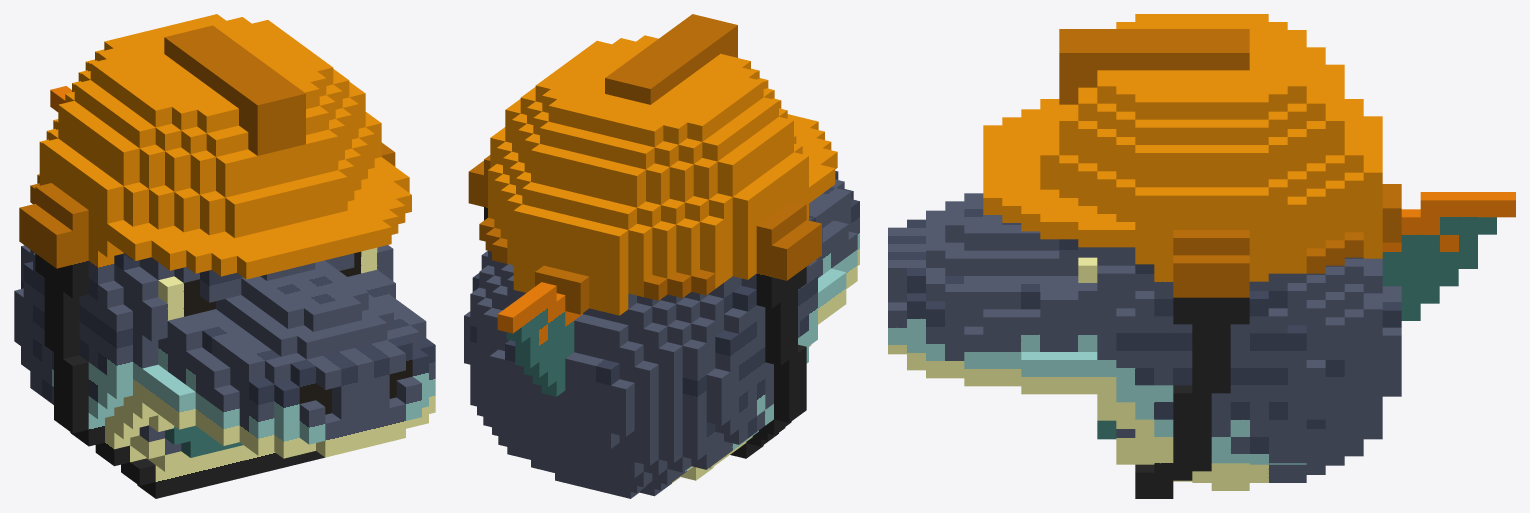
File: yellow hard hat_rainbow spectacles.gltf
The picture shows the model from 3 angles, left to right: view 1: azimuth 30°, elevation 25°; view 2: azimuth 150°, elevation 25°; view 3: azimuth 270°, elevation 25°; orthographic projection. The views are drawn at different scales.
Visible parts, largest first — view 1: C57_H_CoolDude_3DG_RBShade-Mesh; view 2: C57_H_CoolDude_3DG_RBShade-Mesh; view 3: C57_H_CoolDude_3DG_RBShade-Mesh.
Part boxes in pixels (x1,y1,x2,y2): C57_H_CoolDude_3DG_RBShade-Mesh: (14, 14, 435, 498); C57_H_CoolDude_3DG_RBShade-Mesh: (464, 14, 859, 498); C57_H_CoolDude_3DG_RBShade-Mesh: (888, 14, 1515, 498).
Bounding box in the file's own units: 21 × 24 × 33.
Materials: 1 (1 with a texture image).
